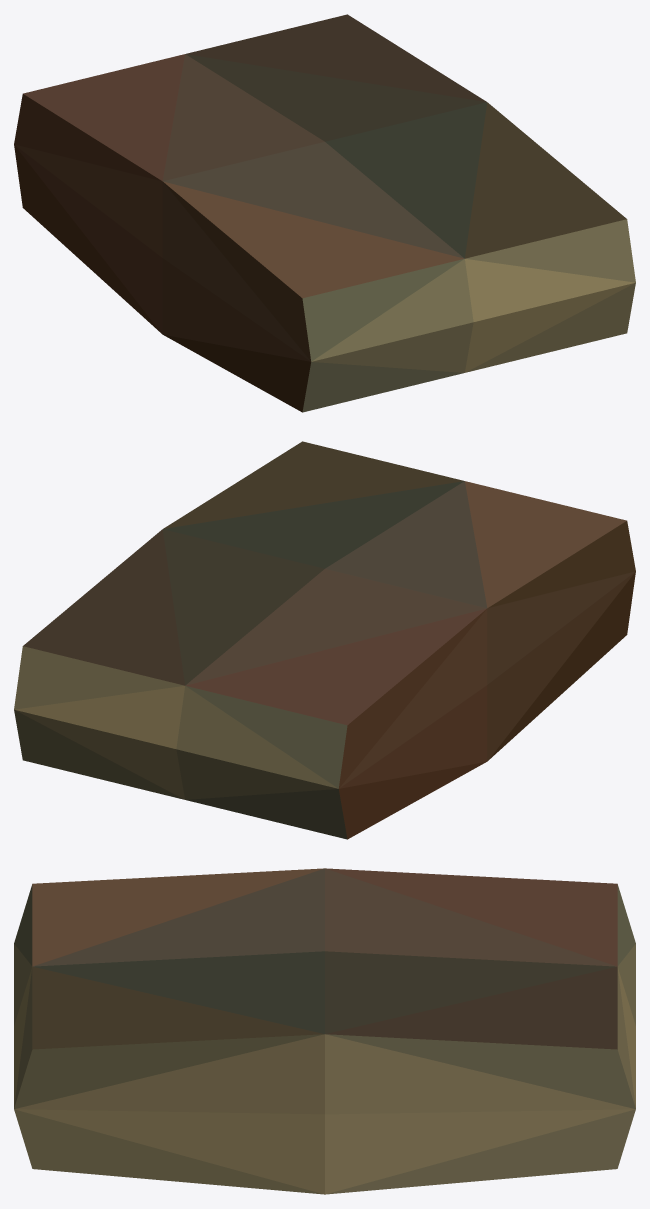
The model's file is prop_literature_book_1.fbx.
The picture shows the model from 3 angles, top to bottom: view 1: azimuth 30°, elevation 25°; view 2: azimuth 150°, elevation 25°; view 3: azimuth 270°, elevation 25°; orthographic projection. The views are drawn at different scales.
Visible parts, largest first — view 1: prop_literature_book_1; view 2: prop_literature_book_1; view 3: prop_literature_book_1.
Boxes of the visible parts, bbox=[...] form: prop_literature_book_1: bbox=[14, 14, 635, 412]; prop_literature_book_1: bbox=[14, 441, 635, 839]; prop_literature_book_1: bbox=[14, 868, 635, 1194].
Bounding box in the file's own units: 0.3895 × 0.1757 × 0.6175.
